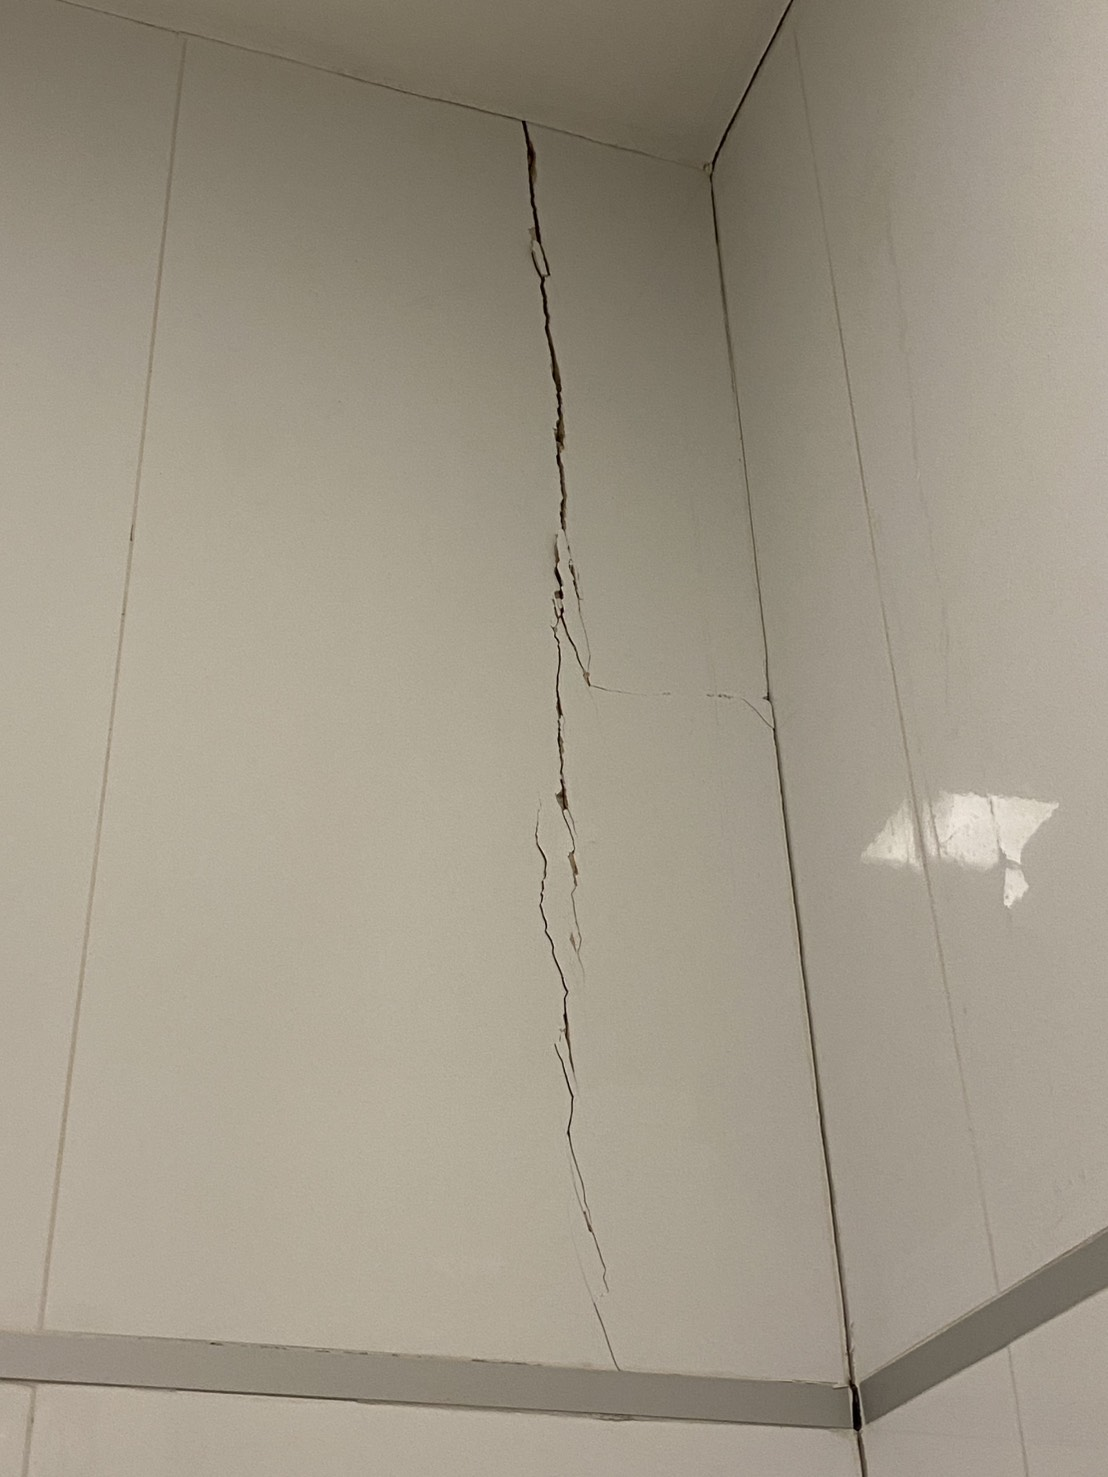Medium: (402, 118, 633, 1318)
